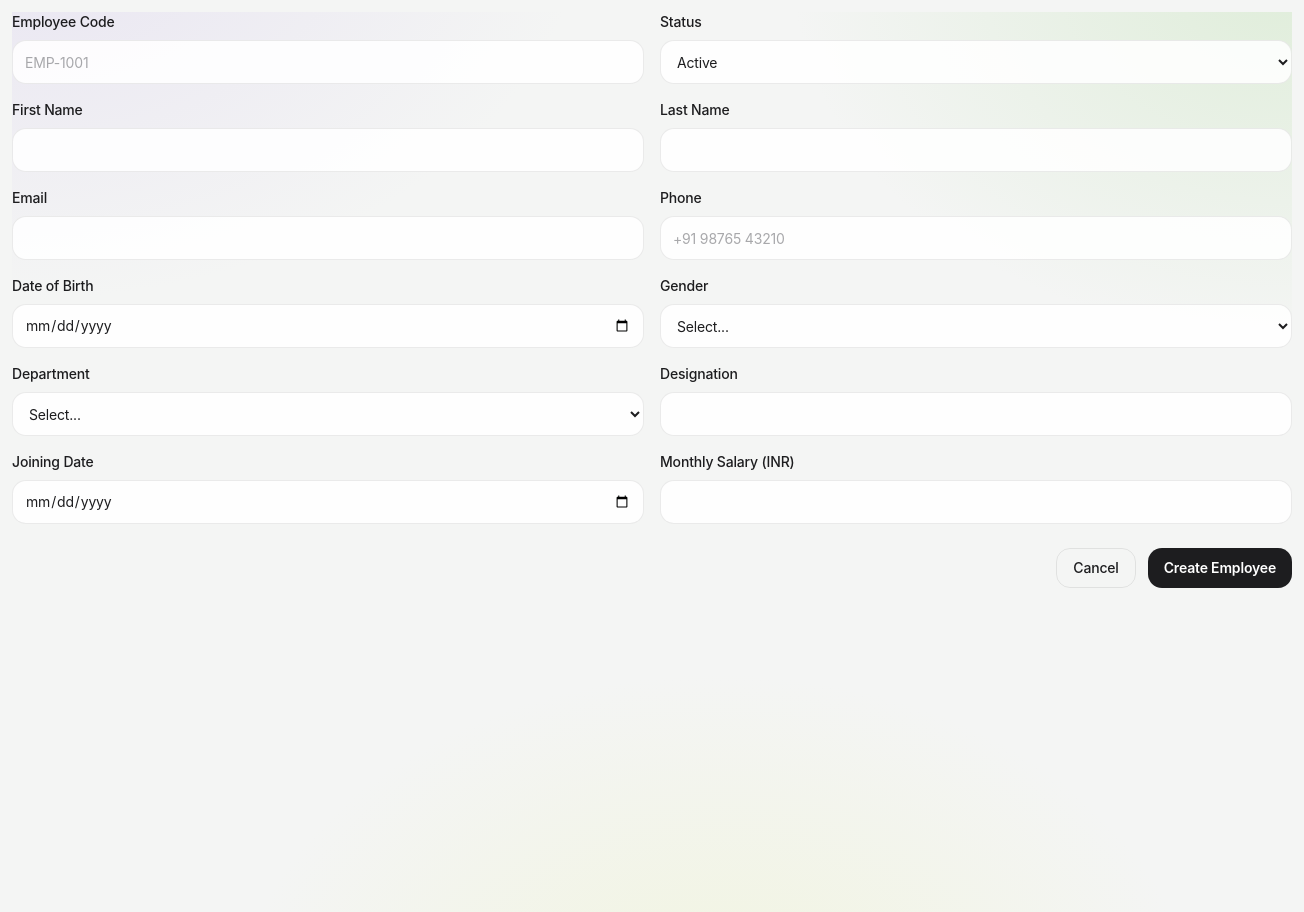
Test: EmployeeForm › shows every required-field message on an empty submit, and does not submit
The width and height of the screenshot is (1304, 912).
Click the button "Create Employee": (1220, 568) left=1148, top=548, right=1292, bottom=588
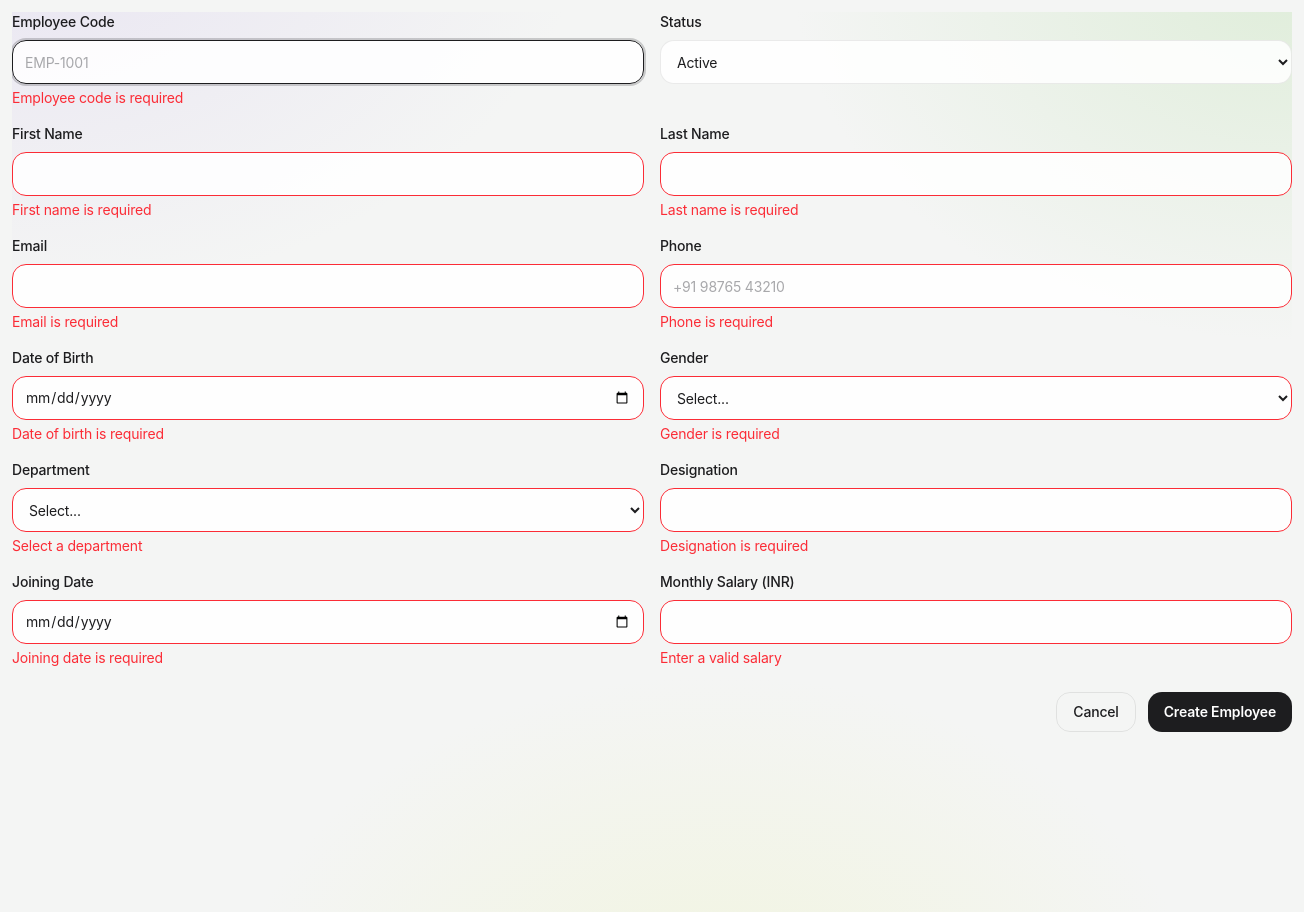
Check: the text "Employee code is required" is shown, box left=12, top=89, right=183, bottom=106
Check: the text "First name is required" is shown, box left=12, top=201, right=151, bottom=218
Check: the text "Last name is required" is shown, box left=660, top=201, right=798, bottom=218
